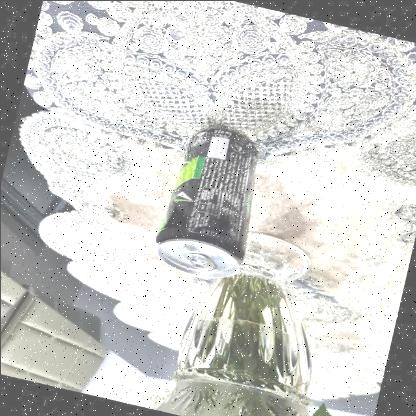Can: (154, 127, 258, 277)
